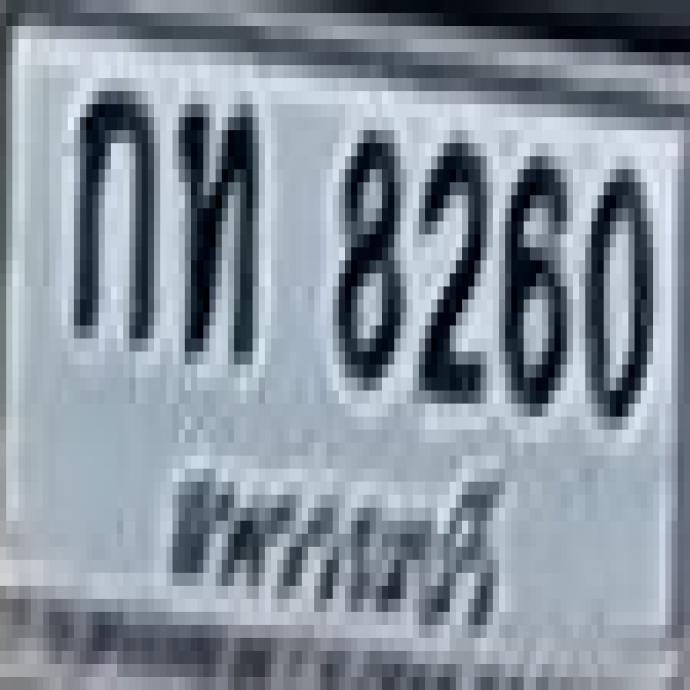0: (581, 156, 647, 417)
2: (415, 127, 481, 390)
6: (498, 143, 562, 404)
8: (330, 118, 397, 377)
A01: (69, 78, 150, 333)
A23: (174, 92, 252, 349)
